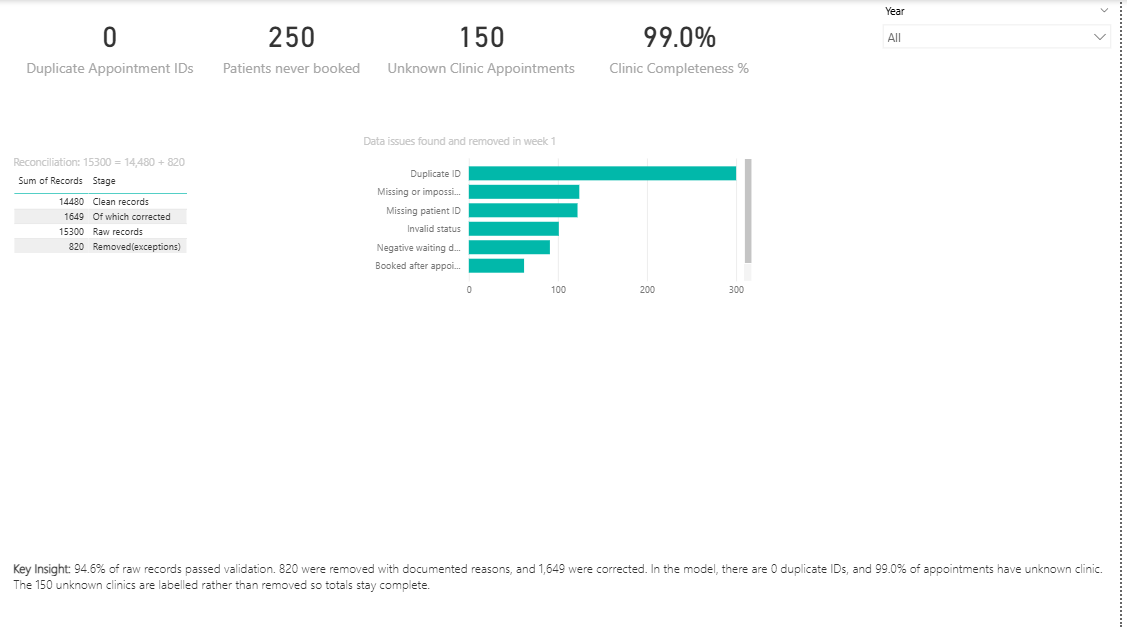

Layout of this report page (visuals, bound fields, positions):
{"tool":"powerbi","page":{"name":"Data Quality","canvas":[1280,720],"ordinal":7},"visuals":[{"type":"card","fields":{"Values":["_Measures.Duplicate Appointment IDs"]},"box":[10.5,0,231.4,102.3],"z":0},{"type":"card","fields":{"Values":["_Measures.Unknown Clinic Appointments"]},"box":[433.7,0,231.4,102.3],"z":1},{"type":"card","fields":{"Values":["_Measures.Clinic Completeness %"]},"box":[676.7,0,198.8,102.3],"z":2},{"type":"card","fields":{"Values":["_Measures.Patients never booked"]},"box":[241.9,0,183.7,102.3],"z":3},{"type":"tableEx","title":"Reconciliation: 15300 = 14,480 + 820","fields":{"Values":["Sum(DQ_Control_Tools.Records)","DQ_Control_Tools.Stage"]},"box":[10.5,176.7,223.3,125.6],"z":4},{"type":"clusteredBarChart","title":"Data issues found and removed in week 1","fields":{"Category":["DQ_Issues.Issue"],"Y":["Sum(DQ_Issues.Row)"]},"box":[409.3,152.3,453.5,195.3],"z":5},{"type":"textbox","box":[10.5,634.9,1269.8,84.9],"z":6},{"type":"slicer","fields":{"Values":["Dim_Date.Year"]},"box":[999,0,281,93.7],"z":7}]}

Visuals, with their boxes in screenshot pixels (x1, y1, x2, y2), scaled from the page's 1280x720 canvas onto the 1127x627 screenshot:
card - _Measures.Duplicate Appointment IDs: [x1=9, y1=0, x2=213, y2=89]
card - _Measures.Unknown Clinic Appointments: [x1=382, y1=0, x2=586, y2=89]
card - _Measures.Clinic Completeness %: [x1=596, y1=0, x2=771, y2=89]
card - _Measures.Patients never booked: [x1=213, y1=0, x2=375, y2=89]
"Reconciliation: 15300 = 14,480 + 820" tableEx: [x1=9, y1=154, x2=206, y2=263]
"Data issues found and removed in week 1" clusteredBarChart: [x1=360, y1=133, x2=760, y2=303]
textbox: [x1=9, y1=553, x2=1126, y2=626]
slicer - Dim_Date.Year: [x1=880, y1=0, x2=1126, y2=82]
